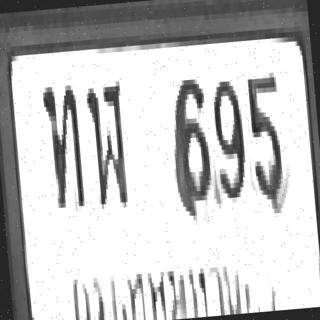A23: (40, 80, 83, 208)
A42: (83, 76, 128, 205)
N05: (243, 65, 285, 208)
N06: (166, 69, 212, 212)
N09: (205, 71, 246, 199)
